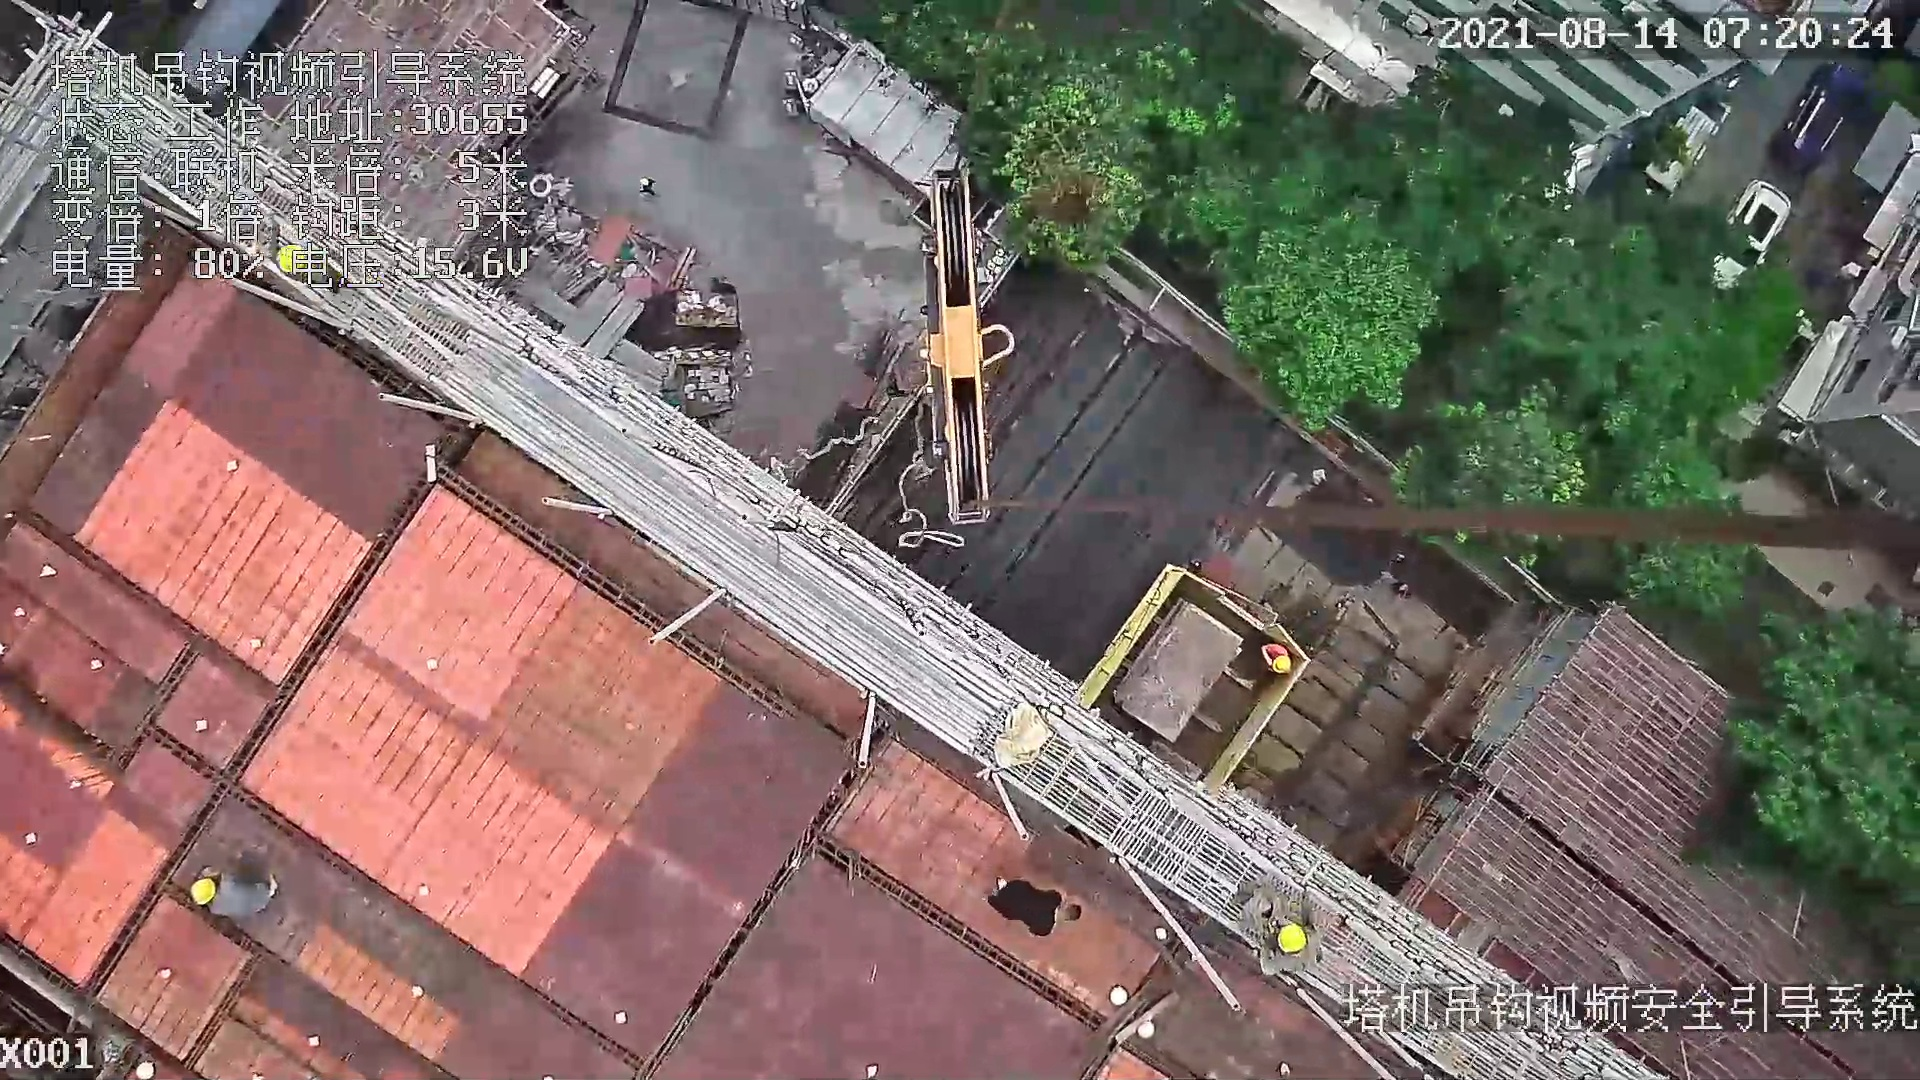helmet: (1274, 923, 1310, 956), (189, 876, 216, 907), (1271, 654, 1290, 673)
hook: (887, 163, 1012, 528)
person: (990, 877, 1088, 941), (1251, 900, 1323, 980), (186, 860, 281, 915), (1253, 637, 1291, 672)
